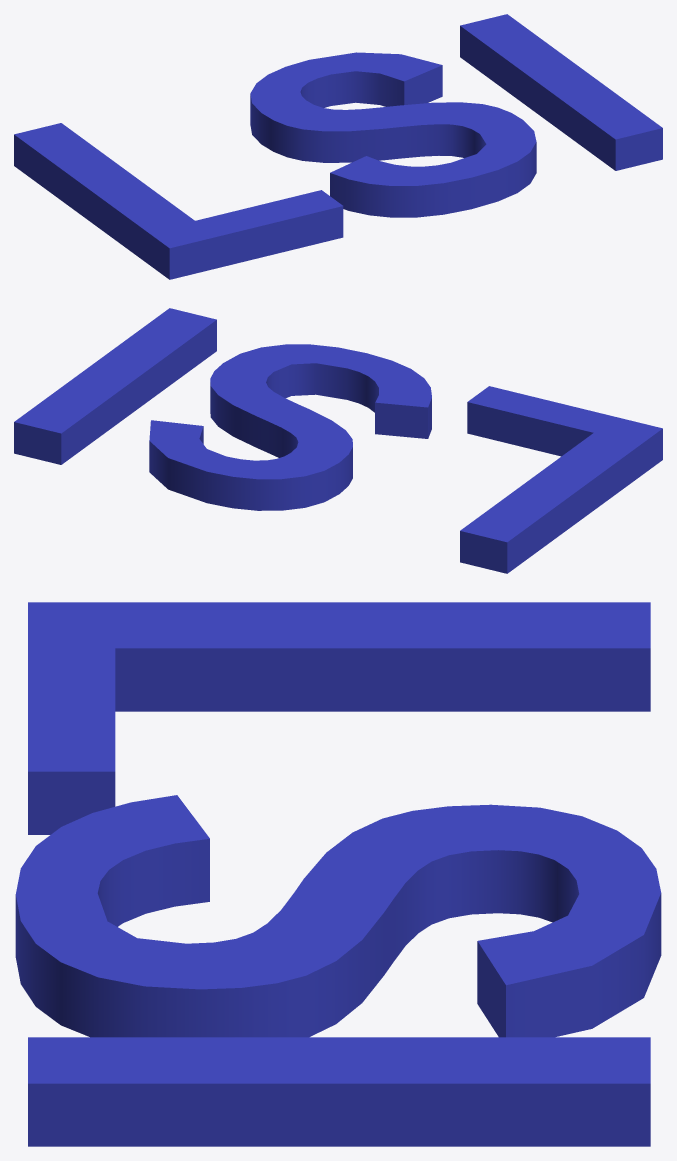
The model's file is lsi.fbx.
The picture shows the model from 3 angles, top to bottom: view 1: azimuth 30°, elevation 25°; view 2: azimuth 150°, elevation 25°; view 3: azimuth 270°, elevation 25°; orthographic projection. The views are drawn at different scales.
Parts seen in each view (by area): view 1: node_id392; view 2: node_id392; view 3: node_id392.
Boxes of the visible parts, x1,y1,x2,y2 form: node_id392: (14, 14, 662, 279); node_id392: (14, 308, 662, 573); node_id392: (15, 602, 661, 1146).
Size of the model in its own units: 0.3068 by 0.0188 by 0.1738.
